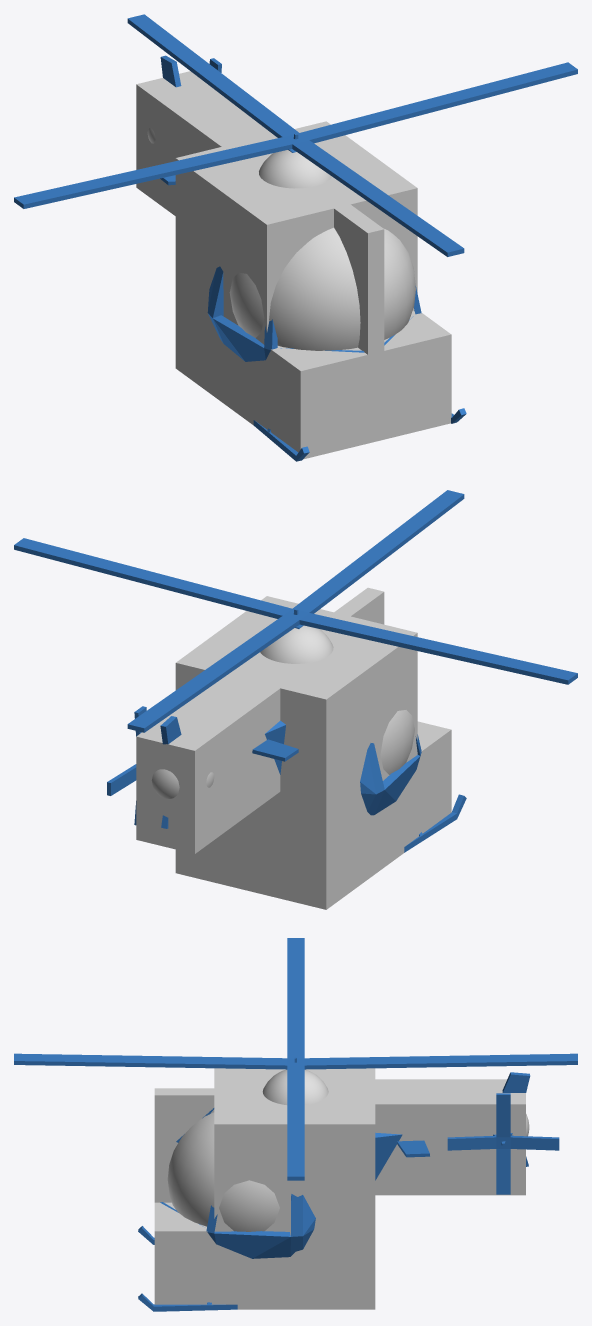
Rendered from heli.glb.
3 views of the same model, one above another, from view 1: azimuth 30°, elevation 25°; view 2: azimuth 150°, elevation 25°; view 3: azimuth 270°, elevation 25° (orthographic). The views are drawn at different scales.
Visible parts, largest first — view 1: Cube006, Cube004, Sphere007, Cube008, Cube007, Cube005, Cube001, Cube, Sphere005, door_R; view 2: Cube006, Cube007, Cube004, Cube, Cube008, Sphere005, Sphere007, Cube001, door_R, Sphere004, Cube002; view 3: Cube006, Cube007, Cube004, Sphere007, Cube005, Cube, Cube001, Cube002, door_L, Sphere005.
Boxes of the visible parts, left/top/right/bottom form: Cube006: left=175, top=121, right=417, bottom=428; Cube004: left=14, top=14, right=577, bottom=256; Sphere007: left=229, top=227, right=415, bottom=350; Cube008: left=267, top=346, right=367, bottom=459; Cube007: left=136, top=71, right=272, bottom=215; Cube005: left=384, top=310, right=451, bottom=439; Cube001: left=334, top=204, right=384, bottom=443; Cube: left=160, top=55, right=466, bottom=461; Sphere005: left=259, top=150, right=331, bottom=188; door_R: left=213, top=315, right=265, bottom=361; Cube006: left=175, top=596, right=417, bottom=909; Cube007: left=136, top=675, right=280, bottom=853; Cube004: left=14, top=490, right=577, bottom=732; Cube: left=160, top=609, right=466, bottom=852; Cube008: left=417, top=721, right=451, bottom=836; Sphere005: left=260, top=625, right=333, bottom=663; Sphere007: left=380, top=710, right=414, bottom=774; Cube001: left=334, top=587, right=384, bottom=624; door_R: left=374, top=755, right=420, bottom=814; Sphere004: left=151, top=769, right=214, bottom=798; Cube002: left=107, top=706, right=146, bottom=825; Cube006: left=214, top=1068, right=375, bottom=1309; Cube007: left=375, top=1079, right=525, bottom=1195; Cube004: left=14, top=938, right=577, bottom=1180; Sphere007: left=167, top=1112, right=279, bottom=1231; Cube005: left=154, top=1202, right=214, bottom=1304; Cube: left=138, top=1057, right=530, bottom=1311; Cube001: left=154, top=1088, right=214, bottom=1202; Cube002: left=447, top=1093, right=559, bottom=1194; door_L: left=214, top=1231, right=290, bottom=1258; Sphere005: left=262, top=1069, right=328, bottom=1104.
Size of the model in its own units: 3.92 by 1.69 by 3.92.
Materials: 2 (1 with a texture image).
